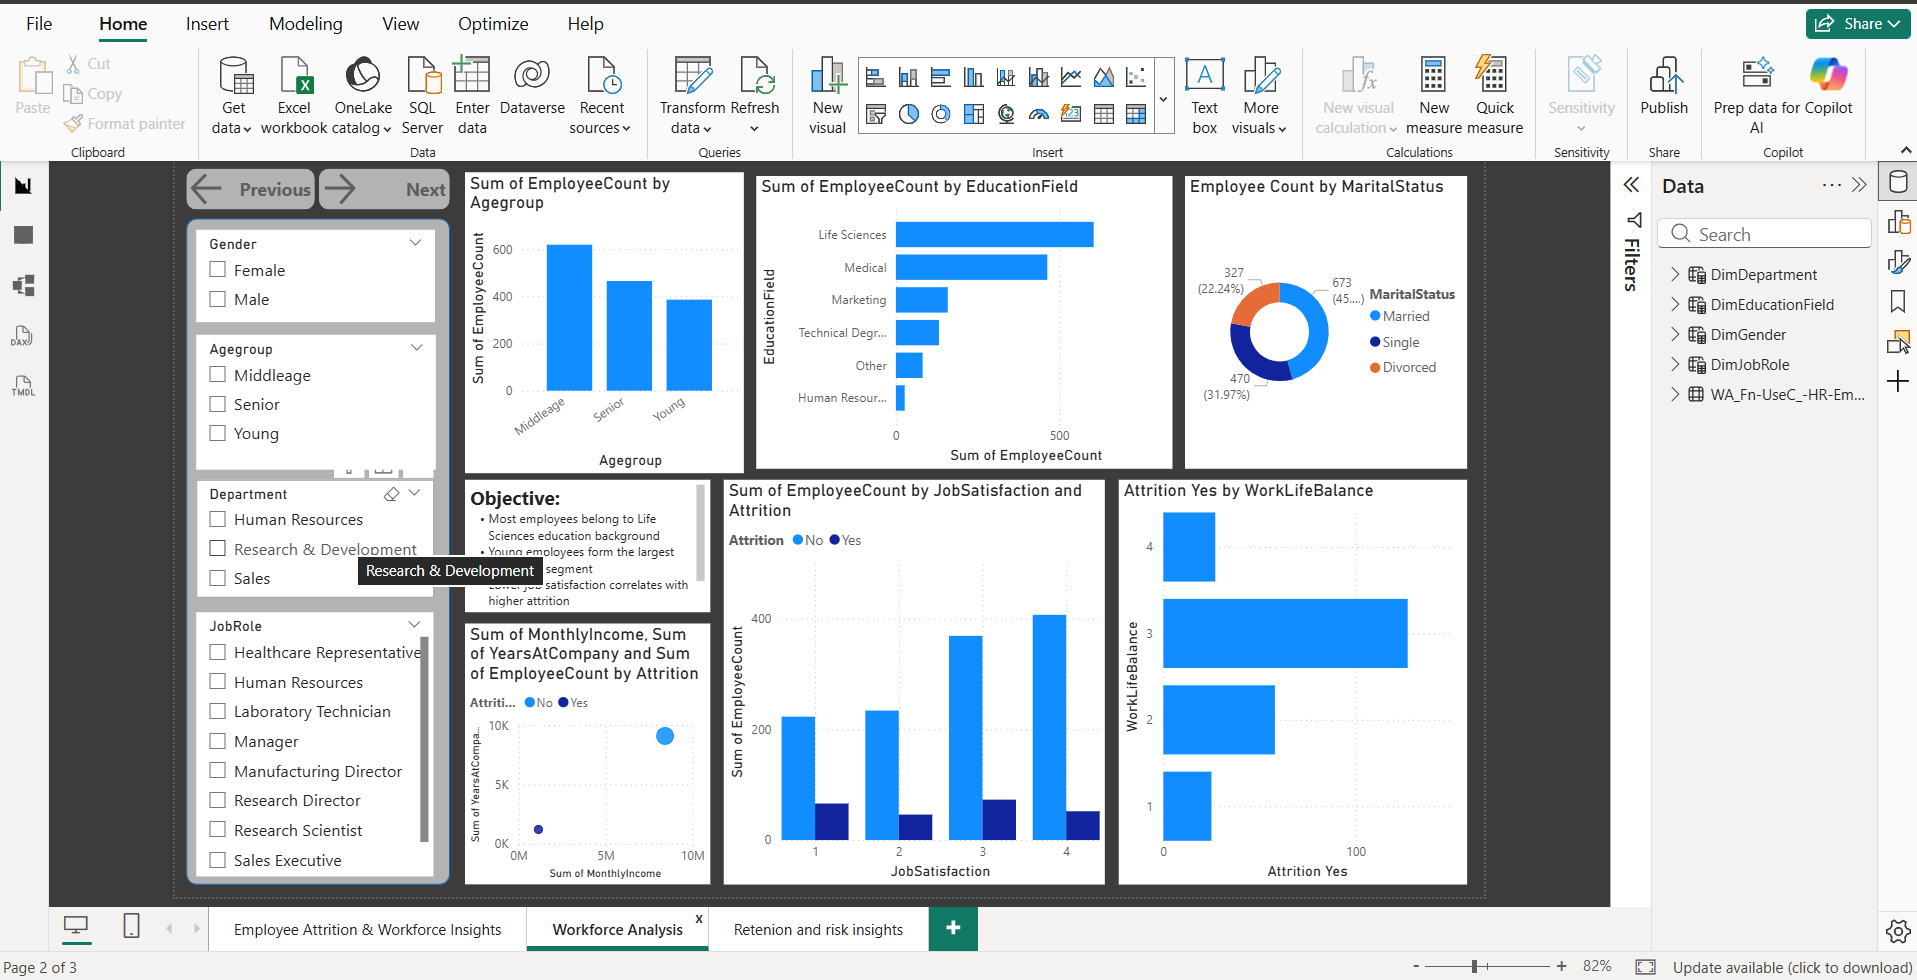

What the dashboard file says about the page in this screenshot:
{"tool":"powerbi","page":{"name":"Workforce Analysis","canvas":[1280,720],"ordinal":1},"visuals":[{"type":"shape","box":[11,56.3,258,651.8],"z":0},{"type":"clusteredBarChart","fields":{"Category":["WA_Fn-UseC_-HR-Employee-Attrition.EducationField"],"Y":["Sum(WA_Fn-UseC_-HR-Employee-Attrition.EmployeeCount)"]},"box":[568.6,14.7,407.2,286.1],"z":1000},{"type":"donutChart","fields":{"Category":["WA_Fn-UseC_-HR-Employee-Attrition.MaritalStatus"],"Y":["WA_Fn-UseC_-HR-Employee-Attrition.Employee Count"]},"box":[988,14.7,276.4,286.1],"z":2000},{"type":"columnChart","fields":{"Category":["WA_Fn-UseC_-HR-Employee-Attrition.Agegroup"],"Y":["Sum(WA_Fn-UseC_-HR-Employee-Attrition.EmployeeCount)"]},"box":[283.7,11,272.7,294.7],"z":3000},{"type":"clusteredColumnChart","fields":{"Y":["Sum(WA_Fn-UseC_-HR-Employee-Attrition.EmployeeCount)"],"Category":["WA_Fn-UseC_-HR-Employee-Attrition.JobSatisfaction"],"Series":["WA_Fn-UseC_-HR-Employee-Attrition.Attrition"]},"box":[536.8,311.8,373,396.2],"z":4000},{"type":"scatterChart","fields":{"Y":["Sum(WA_Fn-UseC_-HR-Employee-Attrition.YearsAtCompany)"],"Series":["WA_Fn-UseC_-HR-Employee-Attrition.Attrition"],"Size":["Sum(WA_Fn-UseC_-HR-Employee-Attrition.EmployeeCount)"],"X":["Sum(WA_Fn-UseC_-HR-Employee-Attrition.MonthlyIncome)"]},"box":[283.7,452.4,239.7,255.6],"z":5000},{"type":"barChart","fields":{"Y":["WA_Fn-UseC_-HR-Employee-Attrition.Attrition Yes"],"Category":["WA_Fn-UseC_-HR-Employee-Attrition.WorkLifeBalance"]},"box":[923.2,311.8,341.2,396.2],"z":6000},{"type":"slicer","fields":{"Values":["WA_Fn-UseC_-HR-Employee-Attrition.Department"]},"box":[20.8,311.8,232.3,114.9],"z":7000},{"type":"slicer","fields":{"Values":["WA_Fn-UseC_-HR-Employee-Attrition.JobRole"]},"box":[20.8,441.4,232.3,258],"z":8000},{"type":"slicer","fields":{"Values":["WA_Fn-UseC_-HR-Employee-Attrition.Gender"]},"box":[20.8,67.3,233.6,90.5],"z":9000},{"type":"slicer","fields":{"Values":["WA_Fn-UseC_-HR-Employee-Attrition.Agegroup"]},"box":[20.8,170,234.8,132.1],"z":10000},{"type":"textbox","box":[283.7,311.8,239.7,129.6],"z":11000},{"type":"actionButton","box":[11,7.3,126,40.4],"z":11001},{"type":"actionButton","box":[140.6,7.3,128.4,40.4],"z":11002}]}

Visuals, with their boxes on the page's 1280x720 design canvas (x1, y1, x2, y2). These are canvas units, not pixel positions in the 1917x980 screenshot, which may show the page scaled, cropped or inside an application window:
shape: crop(11, 56, 269, 708)
clusteredBarChart - WA_Fn-UseC_-HR-Employee-Attrition.EducationField x Sum(WA_Fn-UseC_-HR-Employee-Attrition.EmployeeCount): crop(569, 15, 976, 301)
donutChart - WA_Fn-UseC_-HR-Employee-Attrition.MaritalStatus x WA_Fn-UseC_-HR-Employee-Attrition.Employee Count: crop(988, 15, 1264, 301)
columnChart - WA_Fn-UseC_-HR-Employee-Attrition.Agegroup x Sum(WA_Fn-UseC_-HR-Employee-Attrition.EmployeeCount): crop(284, 11, 556, 306)
clusteredColumnChart - Sum(WA_Fn-UseC_-HR-Employee-Attrition.EmployeeCount) x WA_Fn-UseC_-HR-Employee-Attrition.JobSatisfaction: crop(537, 312, 910, 708)
scatterChart - Sum(WA_Fn-UseC_-HR-Employee-Attrition.YearsAtCompany) x WA_Fn-UseC_-HR-Employee-Attrition.Attrition: crop(284, 452, 523, 708)
barChart - WA_Fn-UseC_-HR-Employee-Attrition.Attrition Yes x WA_Fn-UseC_-HR-Employee-Attrition.WorkLifeBalance: crop(923, 312, 1264, 708)
slicer - WA_Fn-UseC_-HR-Employee-Attrition.Department: crop(21, 312, 253, 427)
slicer - WA_Fn-UseC_-HR-Employee-Attrition.JobRole: crop(21, 441, 253, 699)
slicer - WA_Fn-UseC_-HR-Employee-Attrition.Gender: crop(21, 67, 254, 158)
slicer - WA_Fn-UseC_-HR-Employee-Attrition.Agegroup: crop(21, 170, 256, 302)
textbox: crop(284, 312, 523, 441)
actionButton: crop(11, 7, 137, 48)
actionButton: crop(141, 7, 269, 48)
